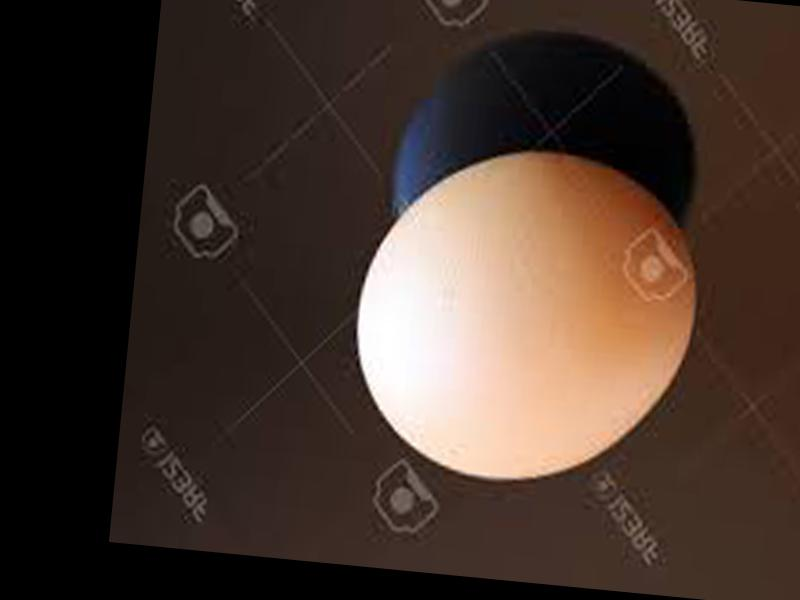Eggs: (341, 132, 707, 497)
